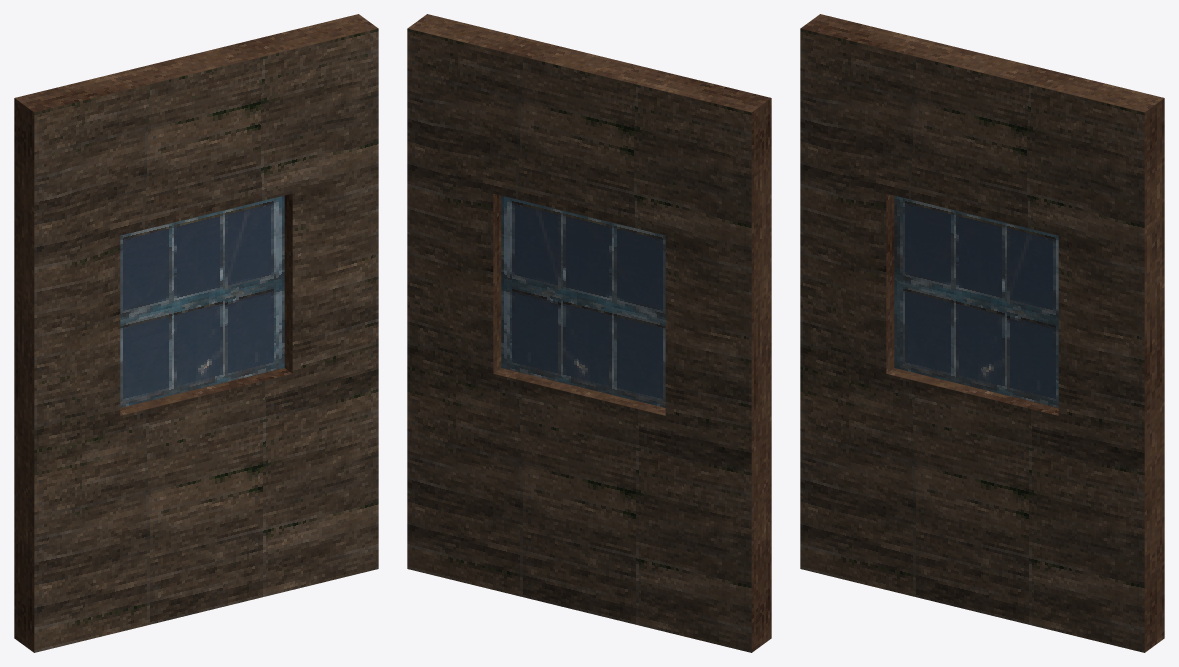
The model's file is window_small_single_01.glb.
3 views of the same model, side by side, from view 1: azimuth 30°, elevation 25°; view 2: azimuth 150°, elevation 25°; view 3: azimuth 330°, elevation 25° (orthographic).
Visible parts, largest first — view 1: window_small_single_012, window_small_01_003; view 2: window_small_single_012, window_small_01_003; view 3: window_small_single_012, window_small_01_003.
Part boxes in pixels (x1,y1,x2,y2): window_small_single_012: (14, 14, 378, 652); window_small_01_003: (120, 195, 284, 407); window_small_single_012: (407, 14, 771, 652); window_small_01_003: (501, 195, 665, 407); window_small_single_012: (800, 14, 1164, 652); window_small_01_003: (894, 195, 1058, 407).
Size of the model in its own units: 2 by 3 by 0.2.
Materials: 2 (2 with a texture image).
